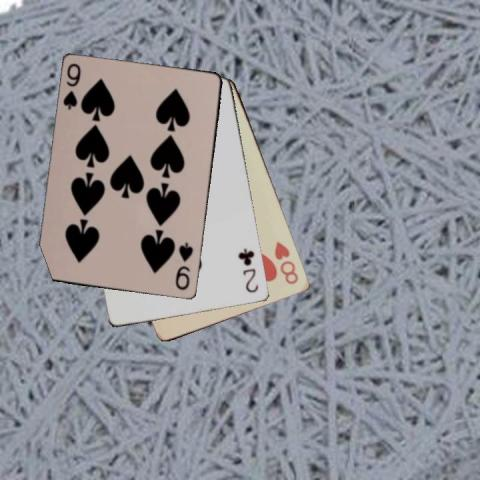2c: (235, 245, 260, 295)
8h: (271, 239, 300, 286)
9s: (172, 239, 194, 292), (60, 61, 83, 111)
